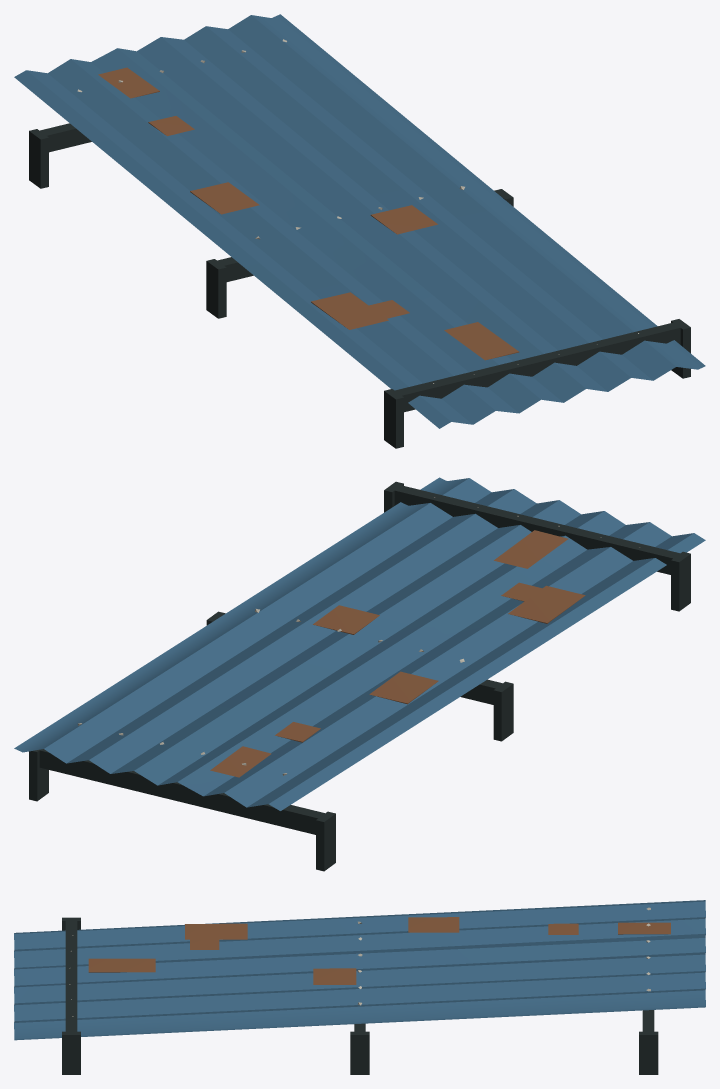
The model's file is mai_ton_khe.glb.
3 views of the same model, one above another, from view 1: azimuth 30°, elevation 25°; view 2: azimuth 150°, elevation 25°; view 3: azimuth 270°, elevation 25° (orthographic). The views are drawn at different scales.
Parts seen in each view (by area): view 1: mai_ton_khe; view 2: mai_ton_khe; view 3: mai_ton_khe.
Part boxes in pixels (x1,y1,x2,y2): mai_ton_khe: (14, 14, 705, 448); mai_ton_khe: (14, 477, 705, 871); mai_ton_khe: (14, 900, 705, 1074).
Size of the model in its own units: 1.44 by 0.3885 by 3.6.
